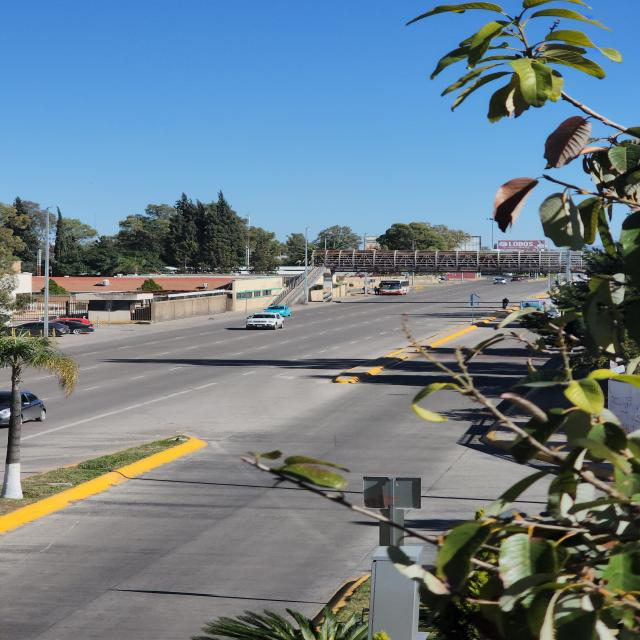Auto: (0, 389, 47, 428), (16, 318, 72, 338), (56, 316, 94, 333)
Autobus: (377, 279, 411, 297)
